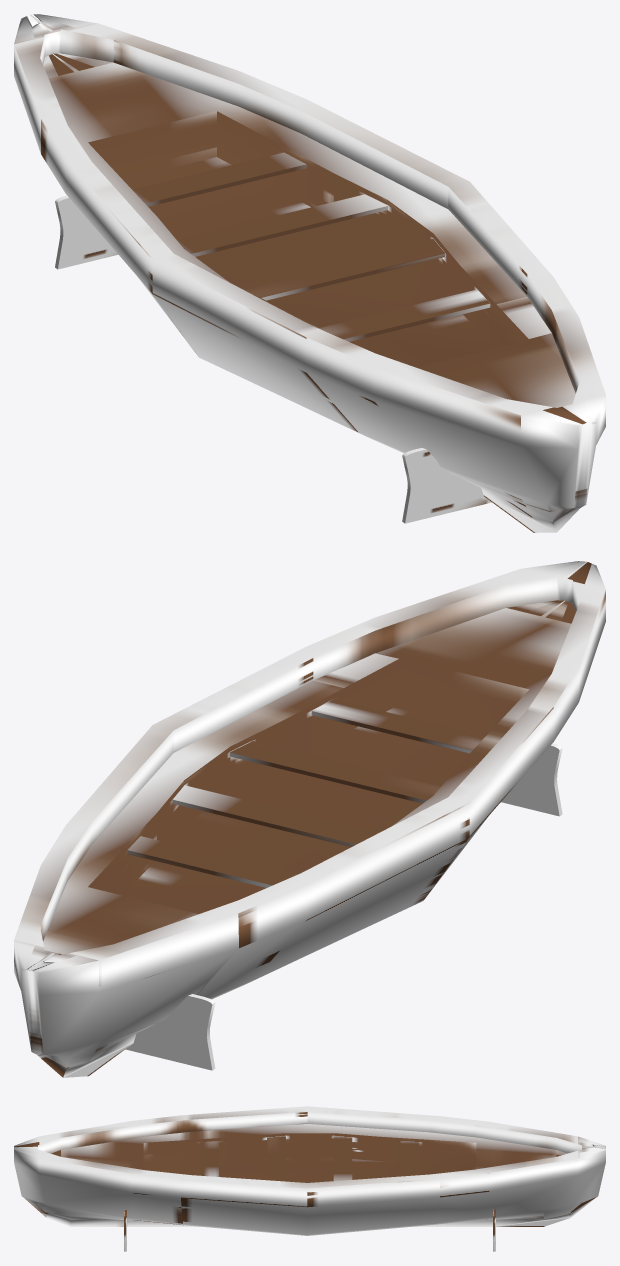
The model's file is lifeboat.obj.
3 views of the same model, one above another, from view 1: azimuth 30°, elevation 25°; view 2: azimuth 150°, elevation 25°; view 3: azimuth 270°, elevation 25° (orthographic). The views are drawn at different scales.
Visible parts, largest first — view 1: Cube.001, Cube.002, Cube.003; view 2: Cube.001, Cube.003, Cube.002; view 3: Cube.001.
Part boxes in pixels (<box>): Cube.001: <box>14,14,605,532</box>; Cube.002: <box>402,448,491,523</box>; Cube.003: <box>55,195,118,269</box>; Cube.001: <box>14,561,605,1077</box>; Cube.003: <box>125,994,215,1070</box>; Cube.002: <box>501,743,562,816</box>; Cube.001: <box>14,1106,605,1235</box>.
Size of the model in its own units: 2.93 by 1.39 by 8.93.
Materials: 1 (1 with a texture image).
